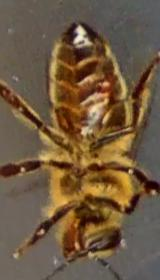varroa_mite: (85, 66, 133, 100), (48, 99, 76, 133)
